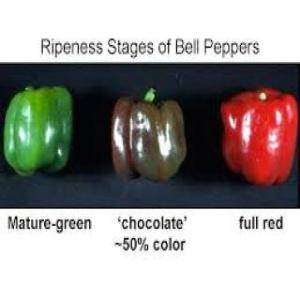bell_pepper: (224, 87, 298, 189), (6, 84, 74, 186)
